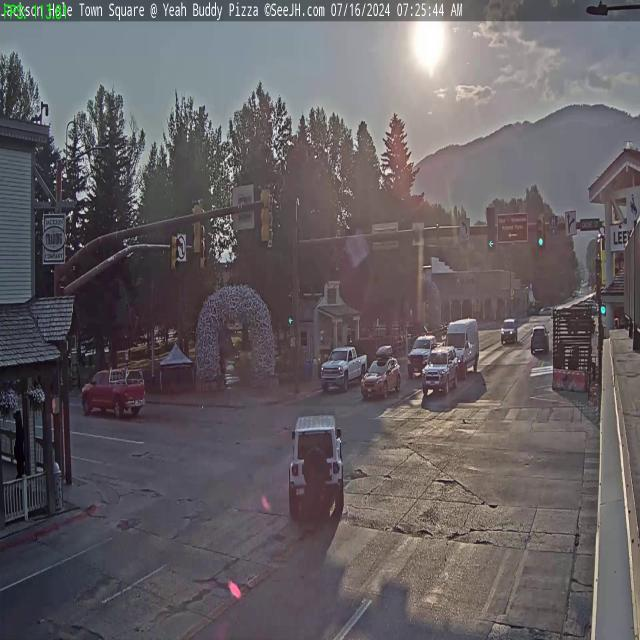pickup: (80, 364, 148, 421), (320, 346, 366, 395), (408, 330, 441, 376)
suv: (288, 407, 346, 523), (421, 349, 461, 395), (360, 356, 400, 400)
traffic light: (260, 184, 273, 243), (190, 199, 203, 256), (486, 207, 496, 249), (171, 234, 179, 273), (537, 214, 545, 248)
van: (445, 315, 480, 379)
